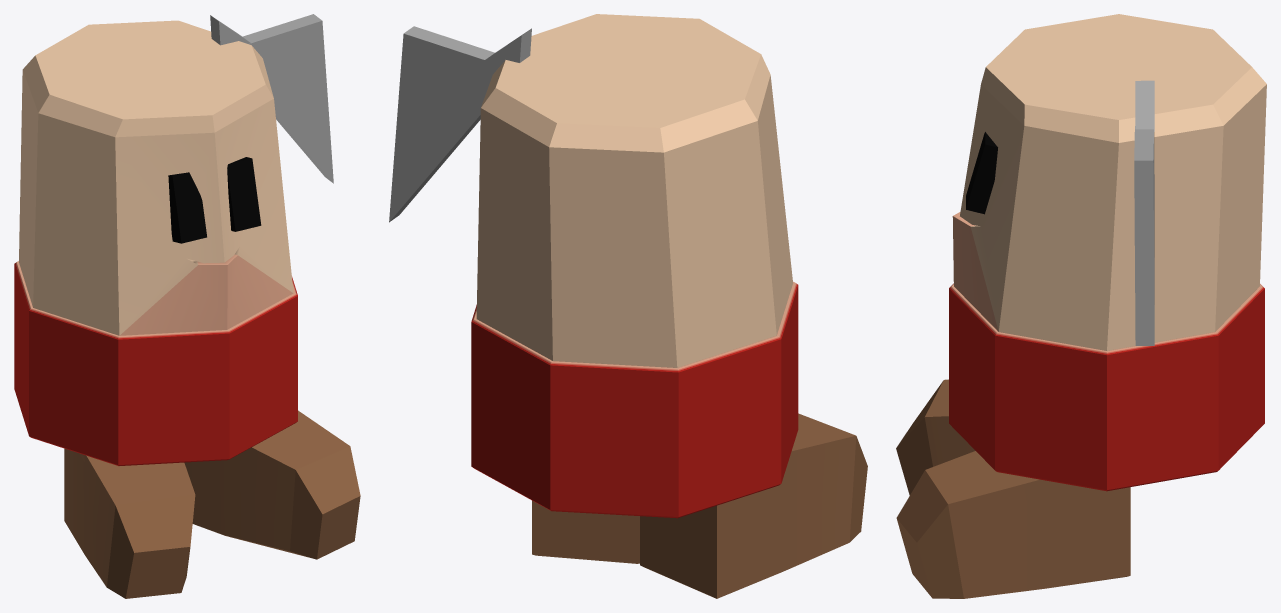
The model's file is NPC-7.fbx.
3 views of the same model, side by side, from view 1: azimuth 30°, elevation 25°; view 2: azimuth 150°, elevation 25°; view 3: azimuth 270°, elevation 25° (orthographic). The views are drawn at different scales.
Visible parts, largest first — view 1: pCylinder7, pCube39, pCube42, polySurface2, pCube40, pCube41, polySurface1; view 2: pCylinder7, pCube42, polySurface2, pCube39, polySurface1; view 3: pCylinder7, pCube39, polySurface2, pCube42, pCube41, polySurface1.
Boxes of the visible parts, box(x1,y1,x2,y2) form: pCylinder7: box(14, 20, 297, 465); pCube39: box(184, 410, 360, 559); pCube42: box(64, 448, 195, 598); polySurface2: box(243, 14, 333, 183); pCube40: box(168, 172, 206, 243); pCube41: box(227, 157, 261, 231); polySurface1: box(210, 15, 250, 45); pCylinder7: box(471, 14, 798, 518); pCube42: box(640, 413, 867, 598); polySurface2: box(389, 26, 498, 222); pCube39: box(532, 500, 639, 563); polySurface1: box(483, 28, 531, 66); pCylinder7: box(949, 14, 1266, 491); pCube39: box(896, 451, 1130, 598); polySurface2: box(1134, 126, 1154, 345); pCube42: box(896, 379, 975, 495); pCube41: box(966, 132, 997, 214); polySurface1: box(1135, 80, 1154, 131).
Size of the model in its own units: 299 by 413 by 280.
4 materials, 1 textured.
